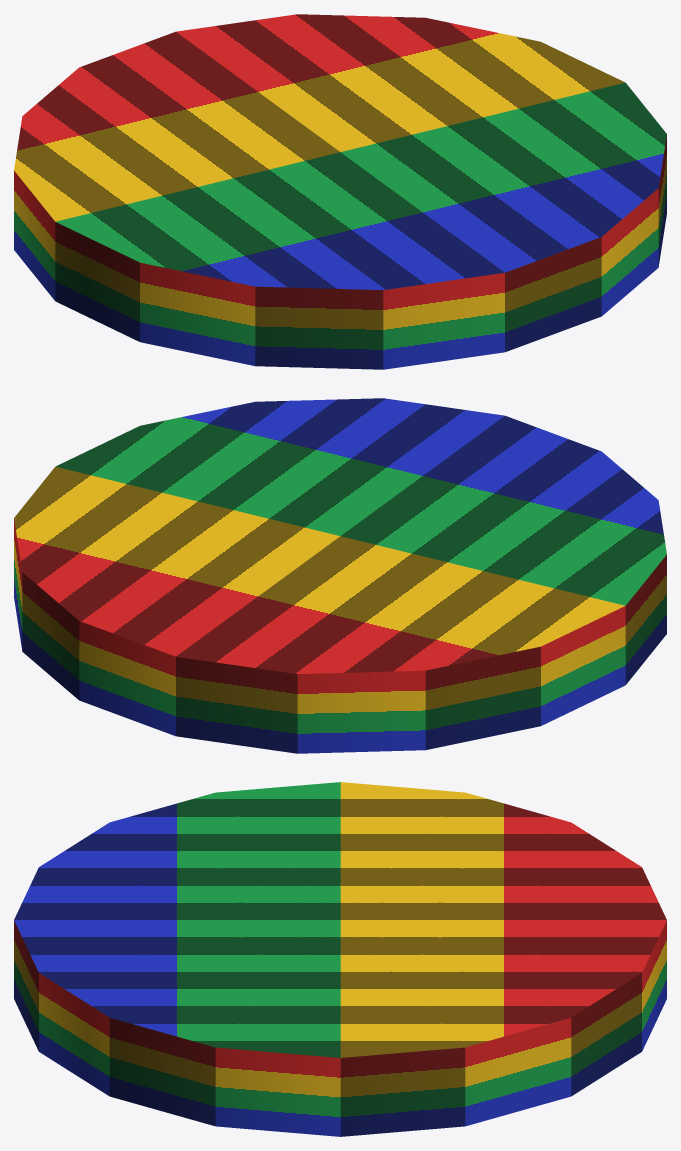
The model's file is agent_medallion.glb.
3 renders of one model, top to bottom at view 1: azimuth 30°, elevation 25°; view 2: azimuth 150°, elevation 25°; view 3: azimuth 270°, elevation 25°, orthographic.
Visible parts, largest first — view 1: agent medallion; view 2: agent medallion; view 3: agent medallion.
Part boxes in pixels (left/top/right/bottom): agent medallion: left=14, top=14, right=666, bottom=369; agent medallion: left=14, top=398, right=666, bottom=753; agent medallion: left=14, top=782, right=666, bottom=1136.
Size of the model in its own units: 30 by 4 by 30.
1 material, 1 textured.
